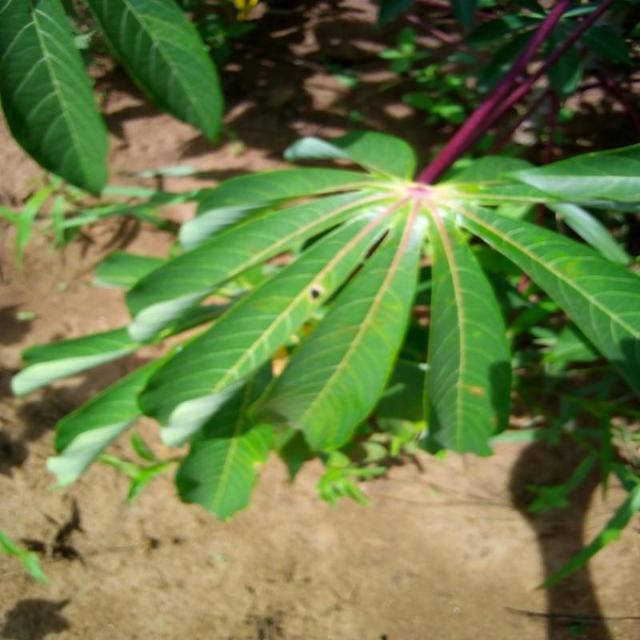cassava leaf: (11, 126, 640, 521), (1, 0, 110, 196), (84, 0, 226, 143)
